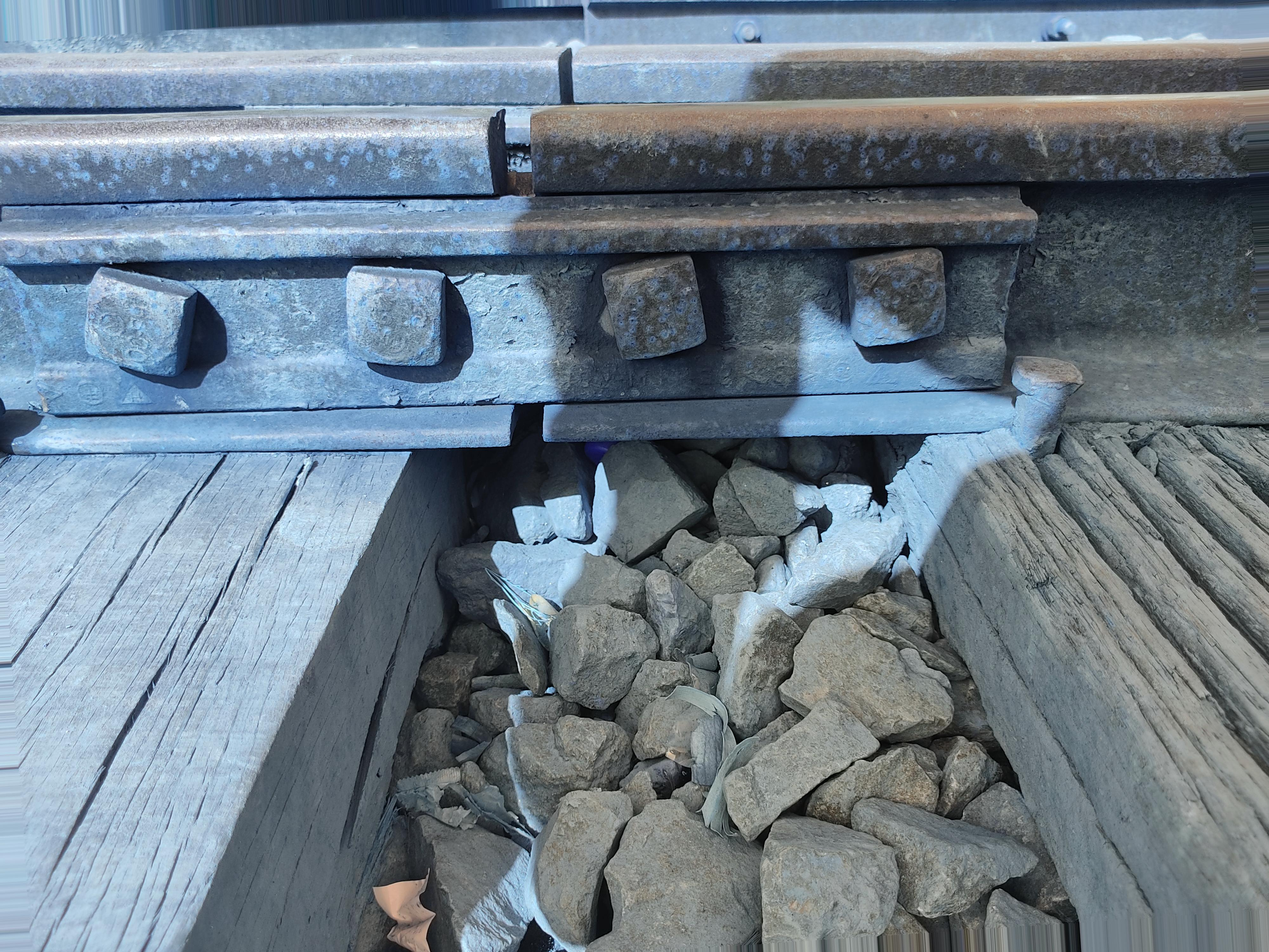tracks_fault: (452, 86, 623, 237)
